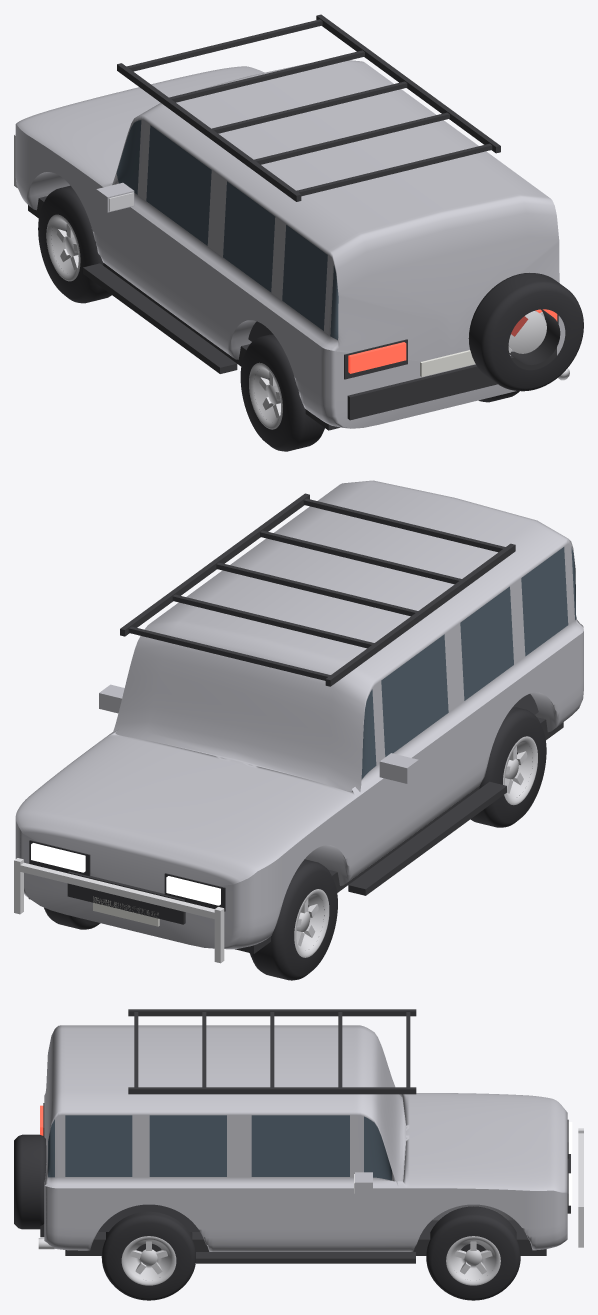
Rendered from gelendvagen.glb.
3 views of the same model, one above another, from view 1: azimuth 30°, elevation 25°; view 2: azimuth 150°, elevation 25°; view 3: azimuth 270°, elevation 25° (orthographic). The views are drawn at different scales.
Visible parts, largest first — view 1: body, spare, wheel_rl, wheel_fl; view 2: body, wheel_fl, wheel_rl; view 3: body, wheel_fr, wheel_rr, spare.
Part boxes in pixels (<box>): body: <box>14,14,569,430</box>; spare: <box>468,273,583,391</box>; wheel_rl: <box>240,334,324,451</box>; wheel_fl: <box>38,185,111,303</box>; body: <box>14,480,583,963</box>; wheel_fl: <box>249,859,337,980</box>; wheel_rl: <box>470,707,546,827</box>; body: <box>38,1009,583,1263</box>; wheel_fr: <box>426,1206,520,1300</box>; wheel_rr: <box>101,1211,195,1300</box>; spare: <box>14,1134,46,1229</box>.
Size of the model in its own units: 2.46 by 2.04 by 5.07.
